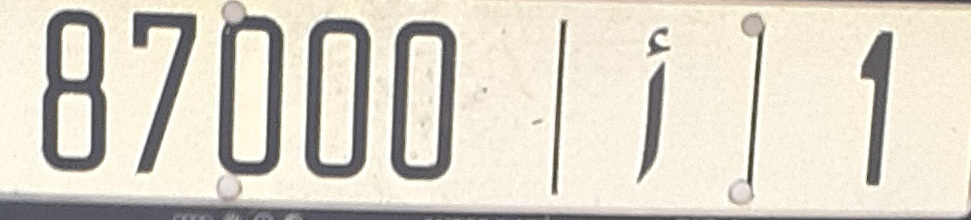0: (389, 19, 459, 187), (215, 10, 284, 178), (303, 13, 371, 183)
1: (856, 21, 901, 192)
7: (129, 9, 199, 174)
8: (40, 6, 111, 175)
a: (634, 24, 677, 187)
